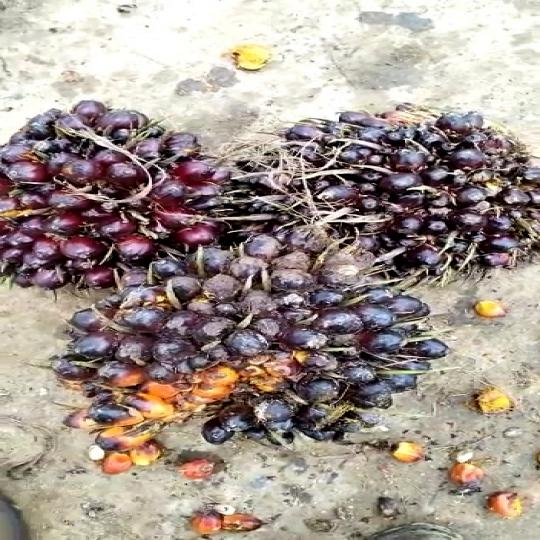kurang masak: (76, 236, 437, 450), (246, 89, 540, 301), (0, 88, 238, 273)
